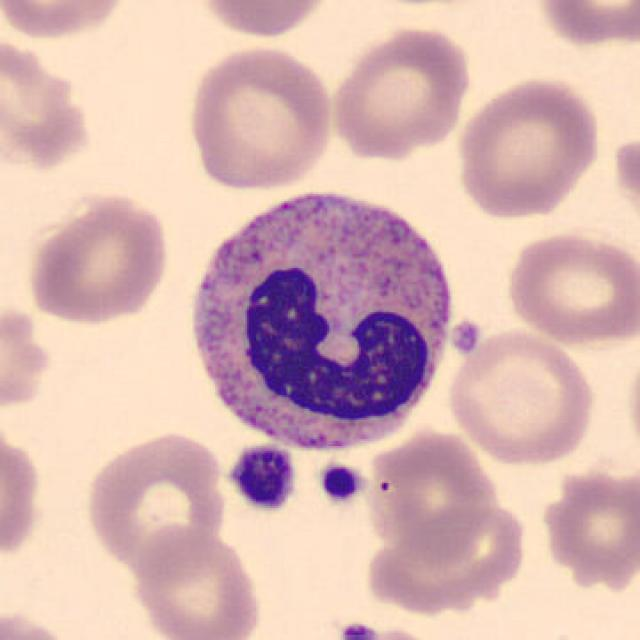Neutrophil: (178, 176, 462, 464), (365, 505, 521, 615), (0, 293, 50, 395)
Platelets: (224, 441, 299, 515), (440, 308, 491, 361), (316, 460, 368, 506), (336, 619, 380, 640)
RBC: (183, 40, 338, 194), (452, 72, 604, 222), (443, 324, 599, 469), (82, 427, 229, 578), (325, 21, 475, 162), (23, 189, 174, 328), (362, 425, 500, 561), (502, 228, 638, 348), (128, 523, 265, 640), (0, 23, 103, 178), (535, 462, 638, 592), (0, 417, 44, 571), (190, 0, 340, 41), (0, 0, 135, 44), (532, 0, 638, 51), (610, 127, 640, 240), (0, 606, 78, 640), (624, 338, 640, 471)
